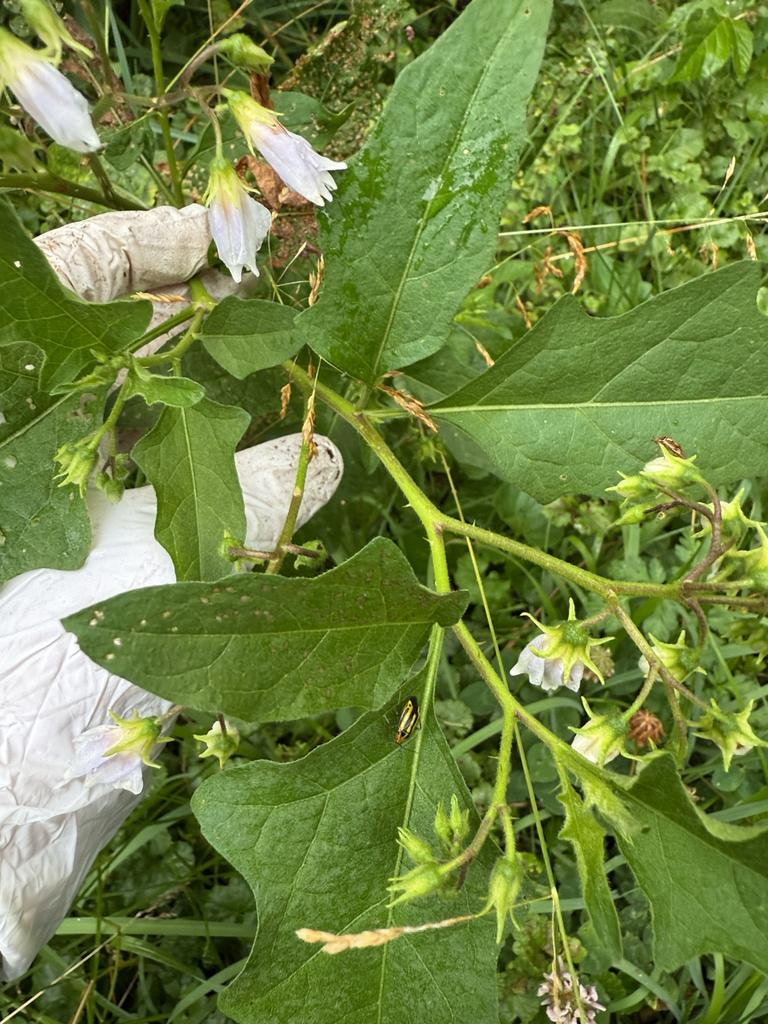plant_bugs: (384, 685, 427, 752), (649, 420, 693, 468)
